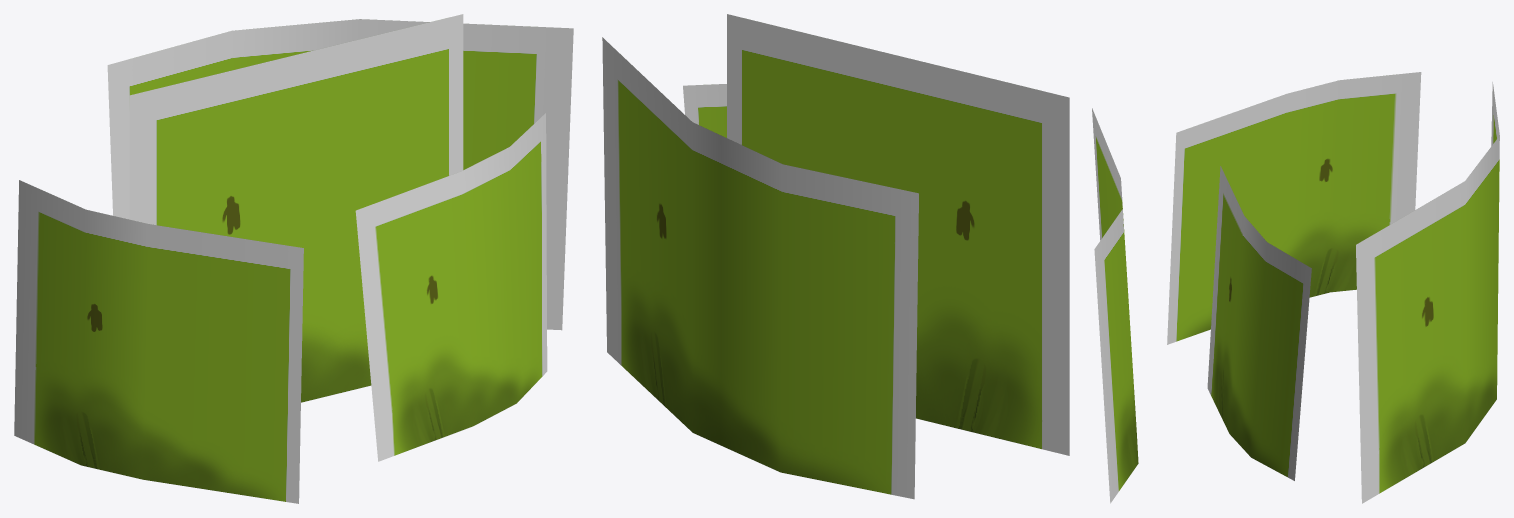
The model's file is Grass_Small.fbx.
3 renders of one model, left to right at view 1: azimuth 30°, elevation 25°; view 2: azimuth 150°, elevation 25°; view 3: azimuth 270°, elevation 25°, orthographic. The views are drawn at different scales.
Visible parts, largest first — view 1: Grass_Small; view 2: Grass_Small; view 3: Grass_Small.
Boxes of the visible parts, <box> form: Grass_Small: <box>14,14,573,503</box>; Grass_Small: <box>602,14,1138,503</box>; Grass_Small: <box>1167,72,1499,503</box>.
Size of the model in its own units: 1.58 by 1 by 0.9954.
